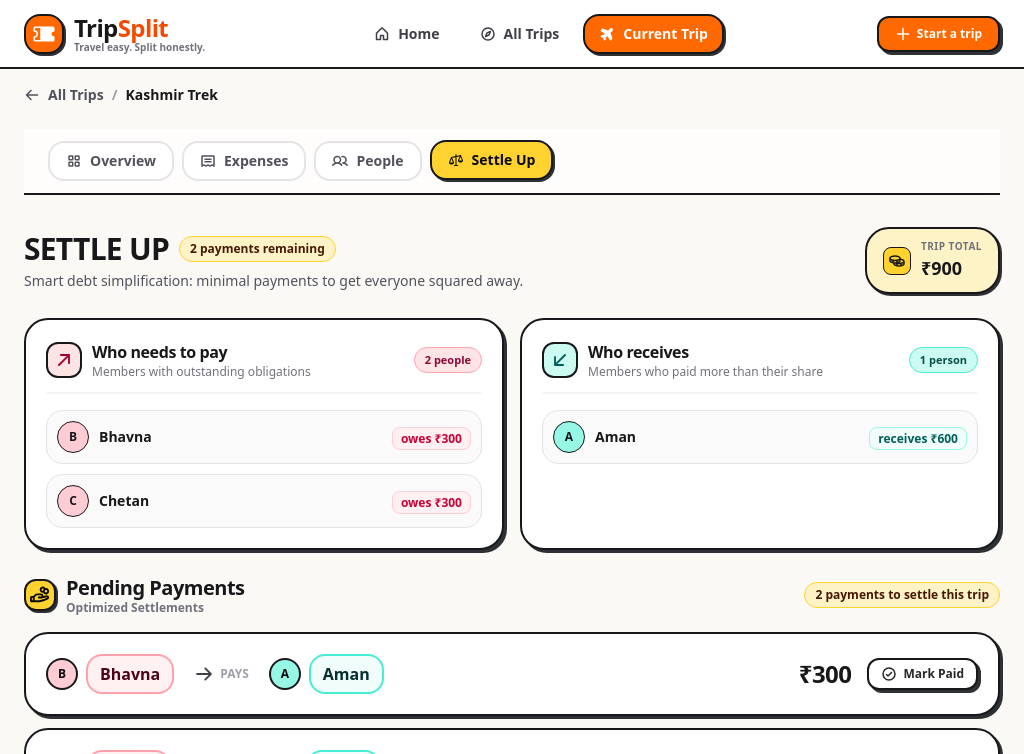
Settlement Payment Tracking — Full Lifecycle & Persistence › UI Payment Lifecycle & Reactive Updates › 5, 6 & 8. Mark Paid decreases pending count and moves transaction to Completed Payments
Expected: the text "2 payments to settle this trip" is shown, [815,587,989,603]
Expected: the heading "Pending Payments" is shown, [66,574,244,602]
Click the 1st button "Mark Paid": (923, 674) [867,658,978,690]
(page scrolled)
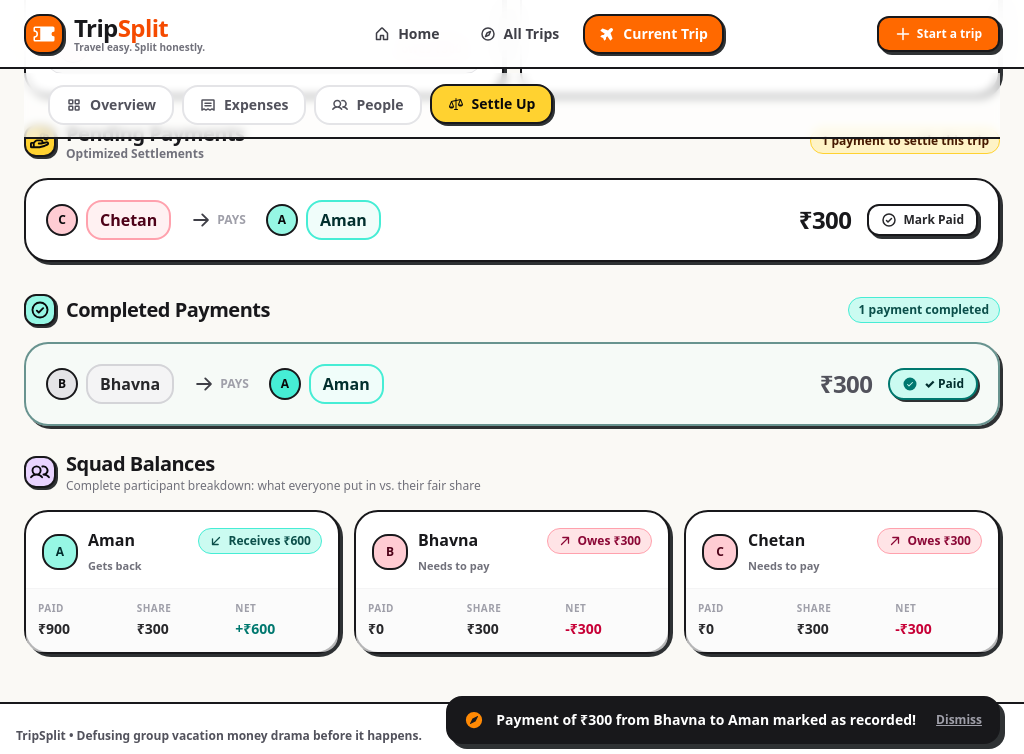
Expected: the text "1 payment to settle this trip" is shown, [821,133,989,149]
Expected: the heading "Completed Payments" is shown, [66,296,270,324]
Expected: the text "✓ Paid" is shown, [924,376,964,392]
